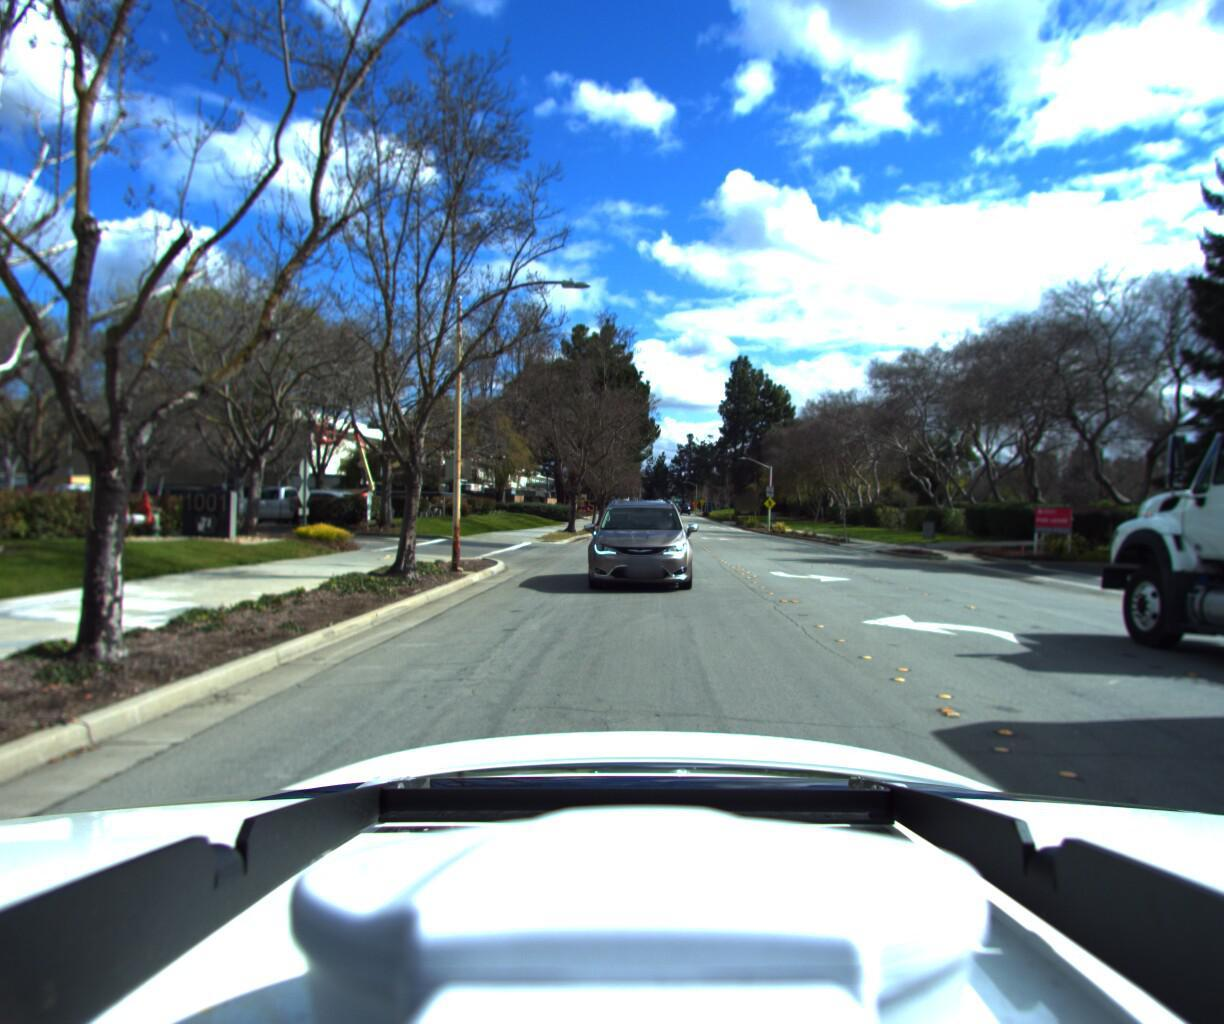car: (582, 494, 697, 600)
